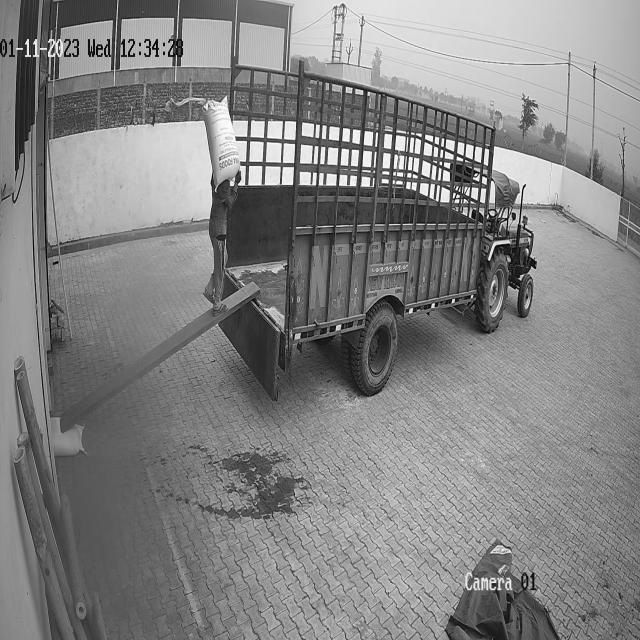sack: (201, 96, 240, 186), (50, 417, 83, 456)
